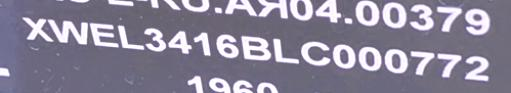letter: (46, 16, 89, 47), (88, 19, 120, 50), (240, 33, 273, 62), (408, 46, 436, 78), (22, 16, 53, 44), (299, 39, 331, 66), (116, 23, 145, 52), (436, 48, 462, 80), (464, 51, 490, 83), (271, 36, 299, 65), (383, 45, 410, 74), (330, 42, 356, 71), (356, 43, 382, 72), (166, 28, 193, 55), (214, 31, 239, 58), (143, 26, 167, 53), (191, 29, 213, 58)
